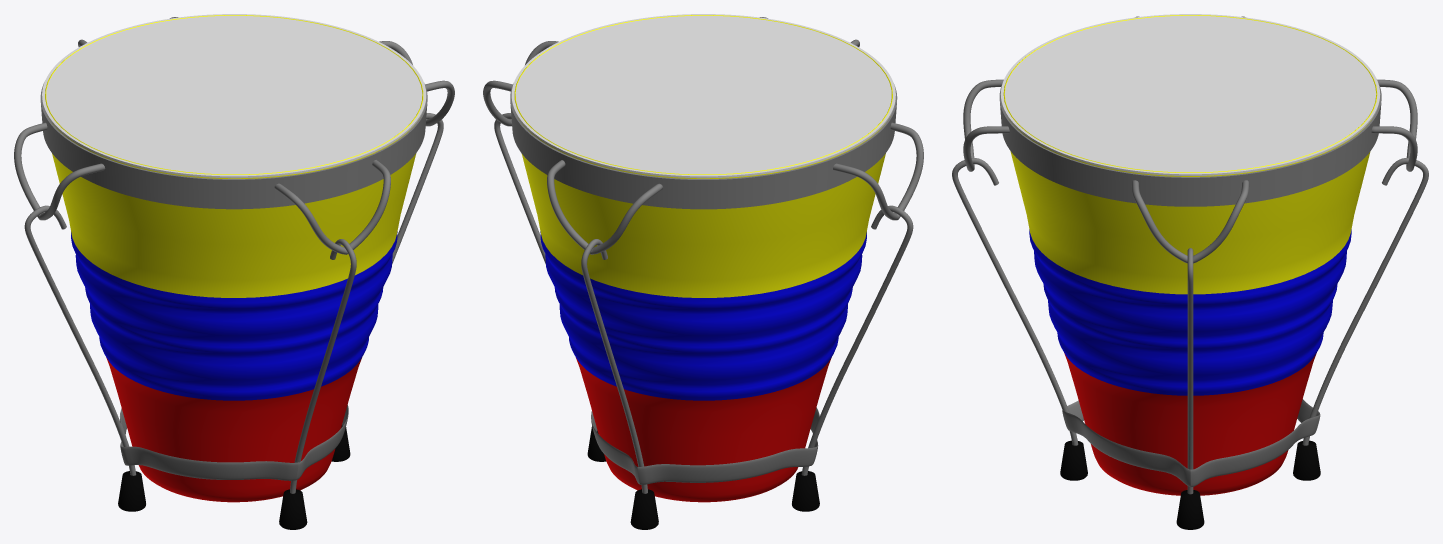
Rendered from Caja.fbx.
The picture shows the model from 3 angles, left to right: view 1: azimuth 30°, elevation 25°; view 2: azimuth 150°, elevation 25°; view 3: azimuth 270°, elevation 25°; orthographic projection.
Parts seen in each view (by area): view 1: Cuerpo, Tapa, CinturonUp, Agarres, CinturonDown, Agarres2, Tapones; view 2: Cuerpo, Tapa, CinturonUp, Agarres, CinturonDown, Agarres2, Tapones; view 3: Cuerpo, Tapa, CinturonUp, Agarres, CinturonDown, Agarres2, Tapones.
Boxes of the visible parts, <box> form: Cuerpo: <box>45,15,423,502</box>; Tapa: <box>42,14,426,178</box>; CinturonUp: <box>40,82,427,209</box>; Agarres: <box>24,113,443,493</box>; CinturonDown: <box>120,405,348,480</box>; Agarres2: <box>14,17,454,254</box>; Tapones: <box>118,424,350,529</box>; Cuerpo: <box>514,15,892,502</box>; Tapa: <box>511,14,895,178</box>; CinturonUp: <box>510,83,897,209</box>; Agarres: <box>494,113,913,493</box>; CinturonDown: <box>591,407,819,484</box>; Agarres2: <box>483,17,923,254</box>; Tapones: <box>587,426,819,529</box>; Cuerpo: <box>1003,15,1377,495</box>; Tapa: <box>1000,14,1380,175</box>; CinturonUp: <box>999,80,1381,206</box>; Agarres: <box>952,158,1428,494</box>; CinturonDown: <box>1062,399,1320,487</box>; Agarres2: <box>963,16,1417,263</box>; Tapones: <box>1060,440,1320,529</box>.
Size of the model in its own units: 249 by 220 by 249.
